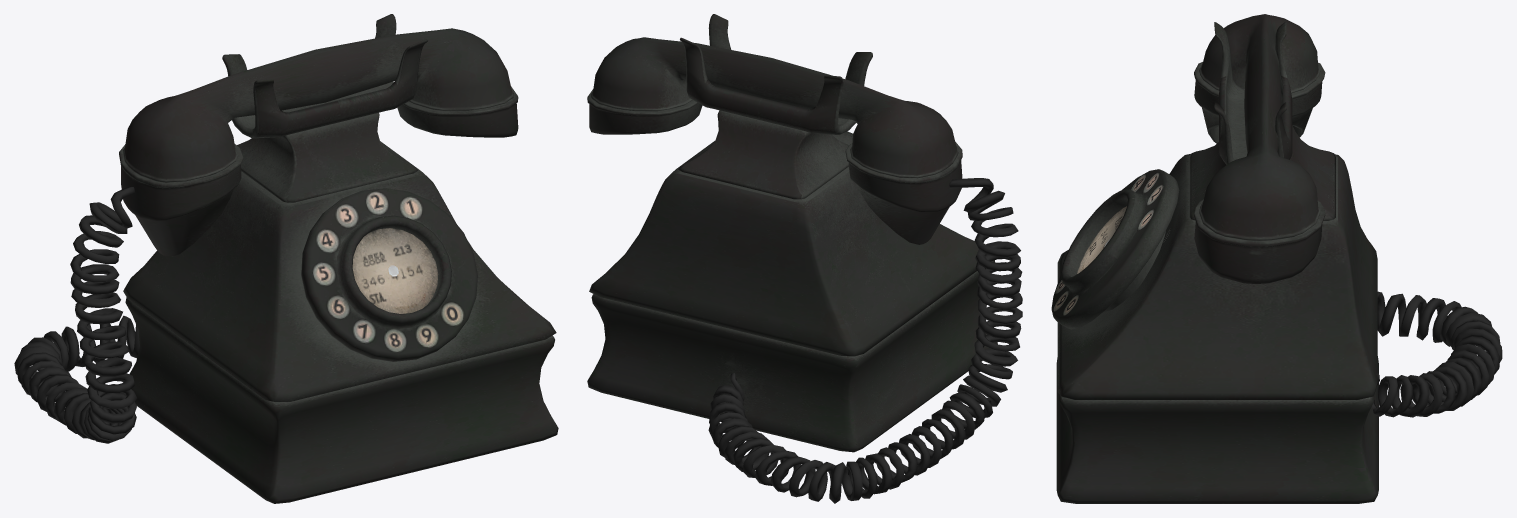
The model's file is telephone.fbx.
3 views of the same model, side by side, from view 1: azimuth 30°, elevation 25°; view 2: azimuth 150°, elevation 25°; view 3: azimuth 270°, elevation 25° (orthographic). The views are drawn at different scales.
Visible parts, largest first — view 1: Object032; view 2: Object032; view 3: Object032.
Part boxes in pixels (x1,y1,x2,y2): Object032: (14,14,558,503); Object032: (587,14,1022,503); Object032: (1051,14,1502,503).
Bounding box in the file's own units: 11.59 × 9.97 × 9.22.
